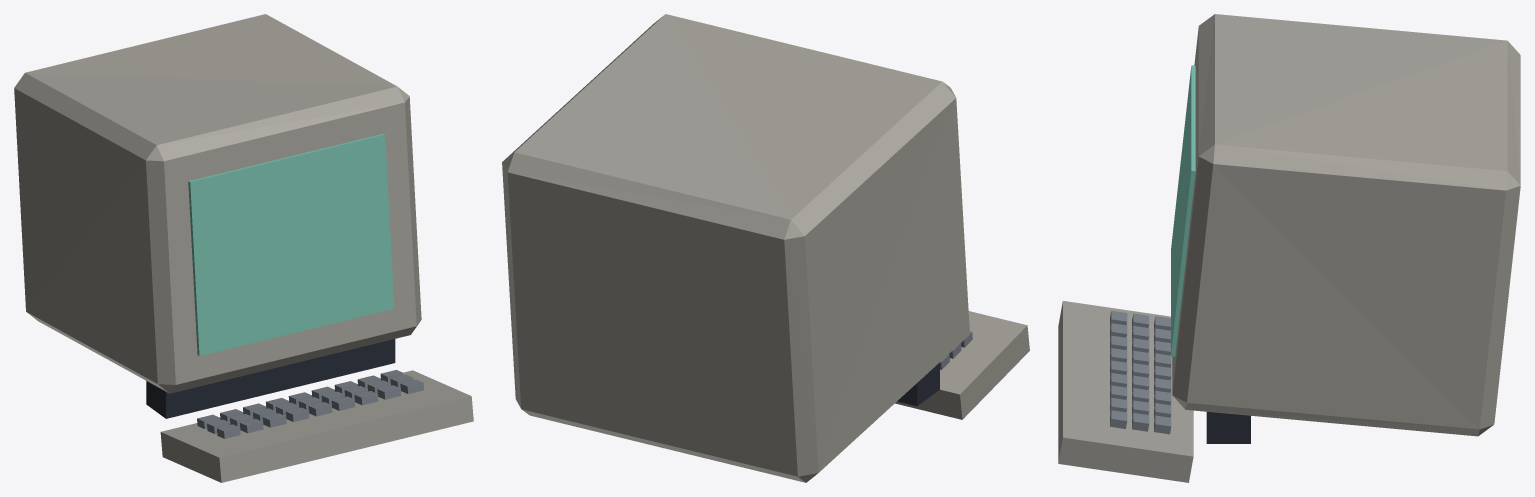
Rendered from crt_terminal.glb.
The picture shows the model from 3 angles, left to right: view 1: azimuth 30°, elevation 25°; view 2: azimuth 150°, elevation 25°; view 3: azimuth 270°, elevation 25°; orthographic projection. The views are drawn at different scales.
Visible parts, largest first — view 1: crt_terminal; view 2: crt_terminal; view 3: crt_terminal.
Boxes of the visible parts, <box> form: crt_terminal: <box>14,14,473,482</box>; crt_terminal: <box>502,14,1029,482</box>; crt_terminal: <box>1058,14,1520,482</box>.
Size of the model in its own units: 0.46 by 0.503 by 0.6289.
